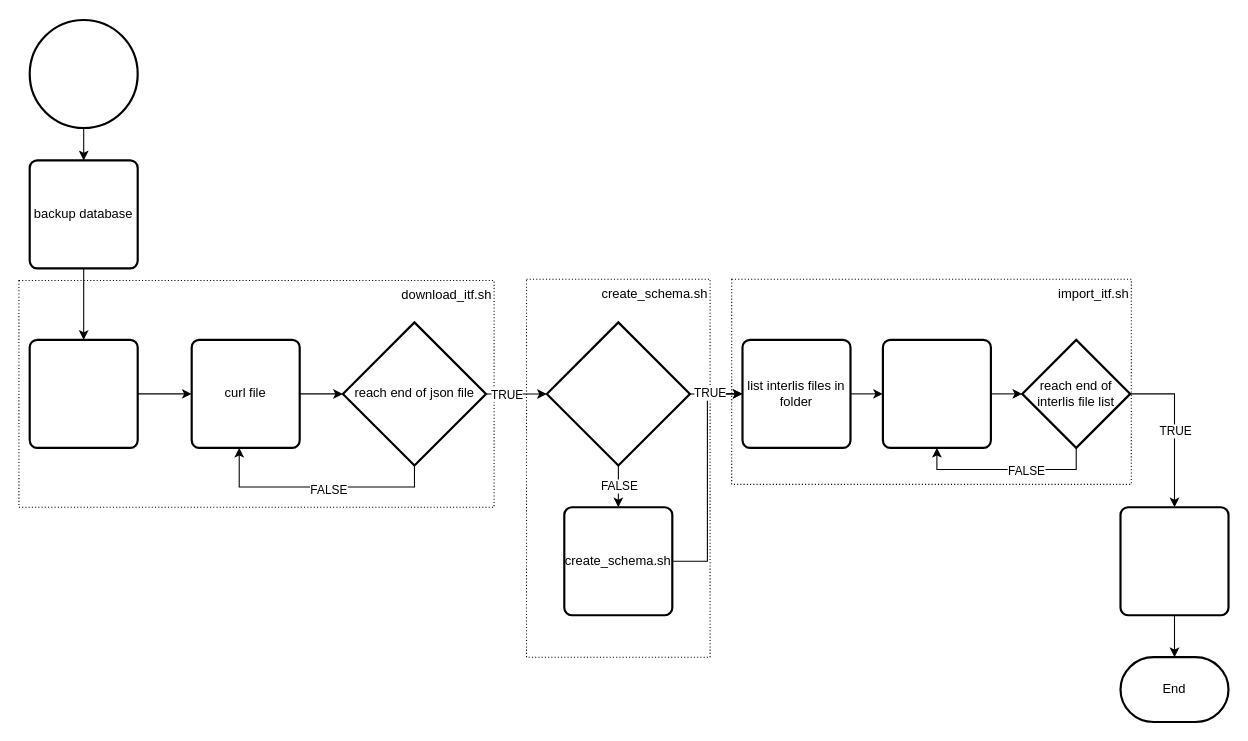
The diagram is 1248 pixels wide and 741 high, and some of its shapes have lost their labels. Each missing label, with the centre of its shape:
"compute statistics" belongs at (x=1174, y=561).
"destination schema exists" belongs at (x=617, y=393).
"ili2db file to database" belongs at (x=936, y=393).
"read list of files json" belongs at (x=83, y=393).
"Run main.sh" belongs at (x=83, y=73).
